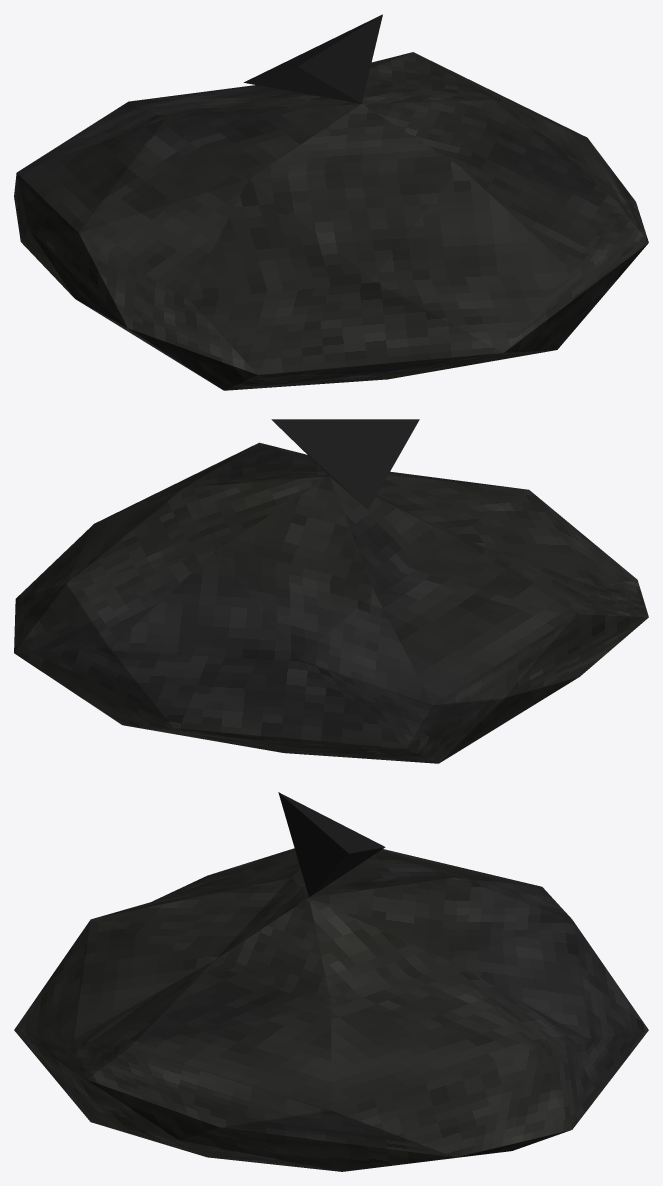
Rendered from trashbag_1.glb.
3 renders of one model, top to bottom at view 1: azimuth 30°, elevation 25°; view 2: azimuth 150°, elevation 25°; view 3: azimuth 270°, elevation 25°, orthographic. The views are drawn at different scales.
Visible parts, largest first — view 1: TrashBagEmpty; view 2: TrashBagEmpty; view 3: TrashBagEmpty.
Boxes of the visible parts, x1=… form: TrashBagEmpty: x1=14, y1=14, x2=648, y2=390; TrashBagEmpty: x1=14, y1=419, x2=648, y2=763; TrashBagEmpty: x1=14, y1=792, x2=648, y2=1171.
Bounding box in the file's own units: 0.7702 × 0.3714 × 0.7909.
1 material, 1 textured.
